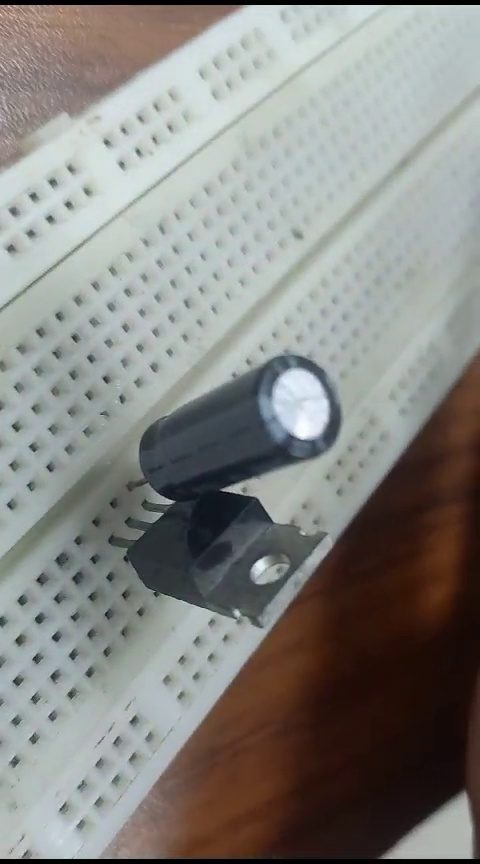capacitor: (135, 351, 351, 481)
voltage regulator: (126, 477, 334, 625)
